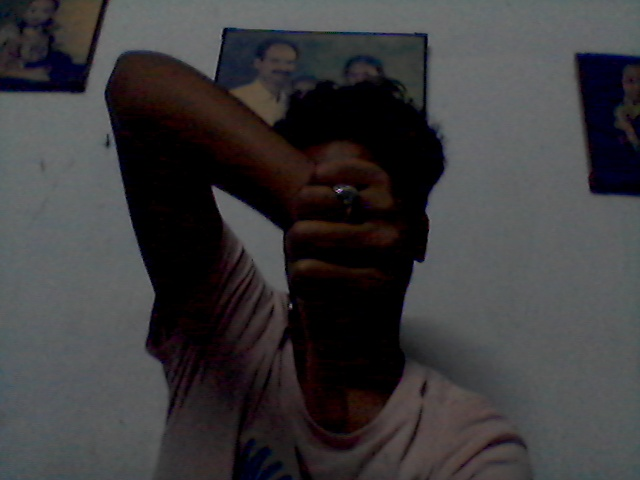Please: (280, 156, 406, 434)
